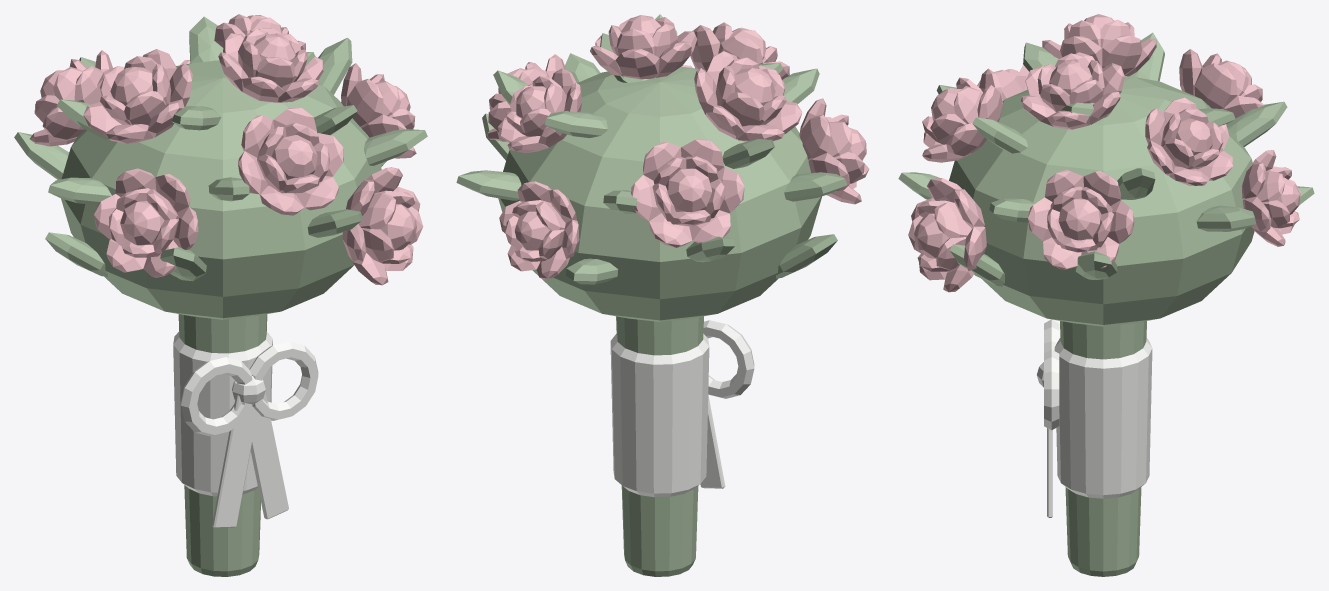
Rendered from wedding-and-chapel-kit-bridal-bouquet-f2067590__39394.glb.
3 views of the same model, side by side, from view 1: azimuth 30°, elevation 25°; view 2: azimuth 150°, elevation 25°; view 3: azimuth 270°, elevation 25° (orthographic). The views are drawn at different scales.
Parts seen in each view (by area): view 1: bridal-bouquet; view 2: bridal-bouquet; view 3: bridal-bouquet.
Part boxes in pixels (x1,y1,x2,y2): bridal-bouquet: [14, 14, 427, 576]; bridal-bouquet: [456, 14, 869, 576]; bridal-bouquet: [898, 14, 1314, 576].
Bounding box in the file's own units: 0.2775 × 0.3839 × 0.2805.
